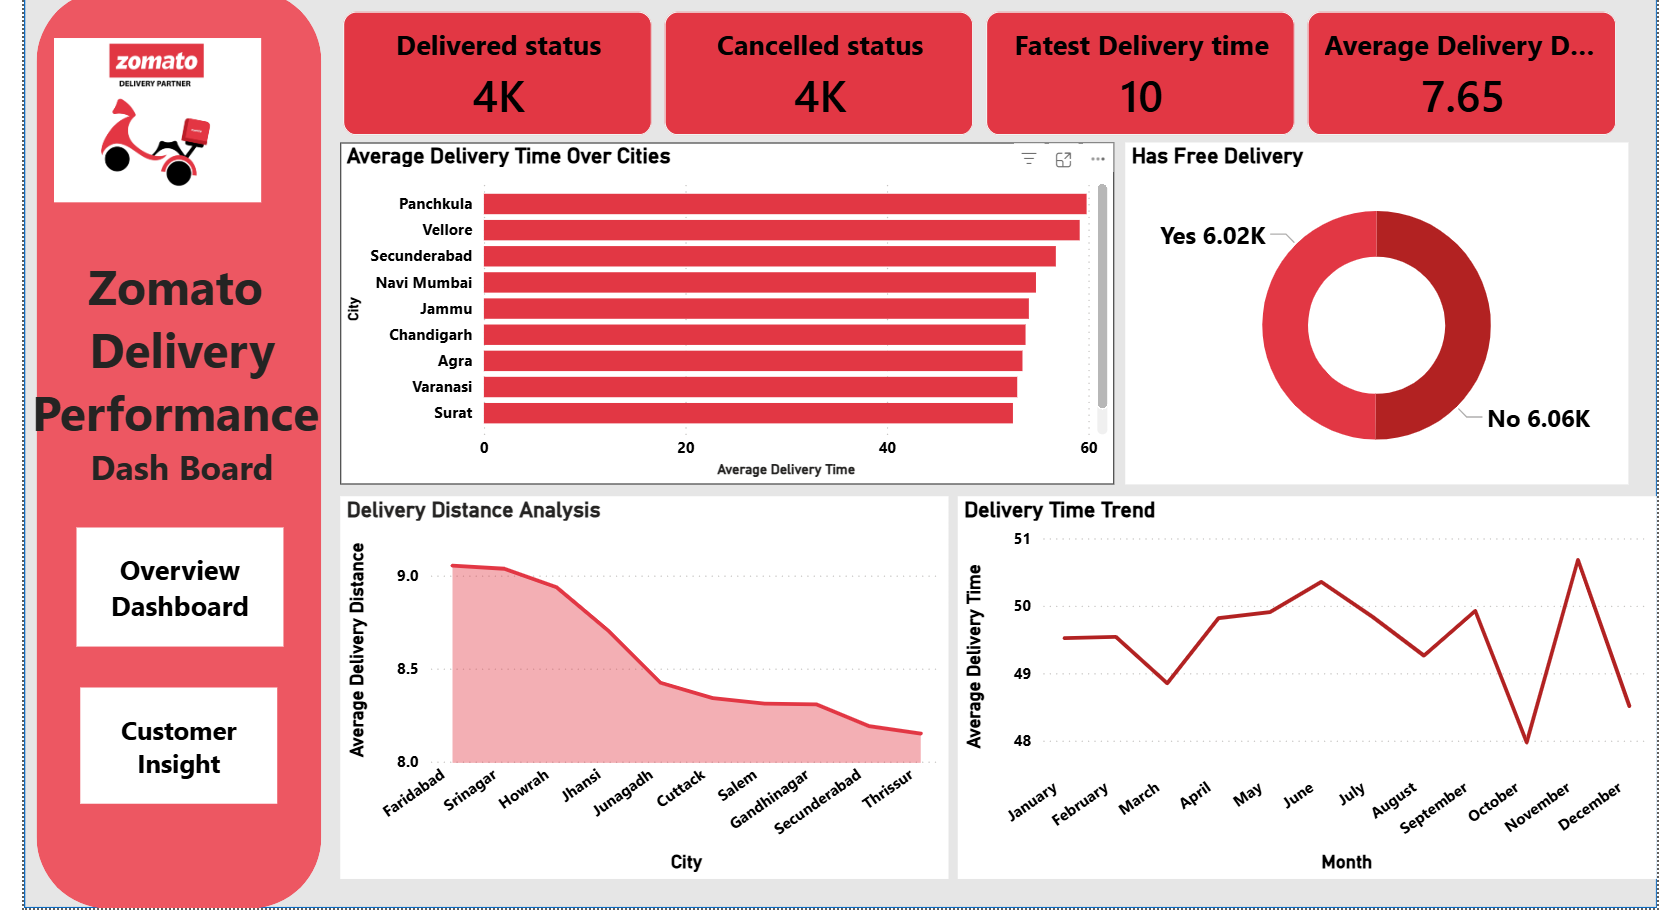

The dashboard page shown, as its layout file describes it:
{"tool":"powerbi","page":{"name":"delivery performance","canvas":[1280,720],"ordinal":2},"visuals":[{"type":"shape","box":[0,0,1280.2,719.8],"z":0},{"type":"shape","box":[10,0,223.3,720],"z":1000},{"type":"textbox","box":[0,202.2,247.8,253.3],"z":2000},{"type":"image","box":[23.3,17.8,162.2,168.9],"z":3000},{"type":"cardVisual","fields":{"Data":["Zomata_delivery_data.Delivered_status","Zomata_delivery_data.Cancelled_status","Region.Fatest Delivery time","Region.Average Delivery Distance"]},"box":[233.3,0,1035.6,131.1],"z":4000},{"type":"clusteredBarChart","title":"Average Delivery Time Over Cities","fields":{"Category":["Zomata_delivery_data.city"],"Y":["Avg(Zomata_delivery_data.Delivery Time (mins))"]},"box":[247.8,120,606.7,267.8],"z":5000},{"type":"donutChart","title":"Has Free Delivery","fields":{"Y":["CountNonNull(Zomata_delivery_data.Order ID)"],"Category":["Zomata_delivery_data.Has Free Delivery"]},"box":[863.3,120,394.4,267.8],"z":6000},{"type":"areaChart","title":"Delivery Distance Analysis","fields":{"Category":["Zomata_delivery_data.city"],"Y":["Avg(Zomata_delivery_data.Delivery Distance (km))"]},"box":[247.8,396.7,476.7,300],"z":7000},{"type":"lineChart","title":"Delivery Time Trend","fields":{"Category":["Zomata_delivery_data.Order Date.Variation.Date Hierarchy.Month"],"Y":["Avg(Zomata_delivery_data.Delivery Time (mins))"]},"box":[732.2,396.7,547.8,300],"z":8000},{"type":"actionButton","box":[41.1,421.1,162.2,93.3],"z":9000},{"type":"actionButton","title":"Customer Insight","box":[44.4,546.7,154.4,91.1],"z":10000}]}

Visuals, with their boxes in screenshot pixels (x1, y1, x2, y2), scaled from the page's 1280x720 canvas onto the 1675x917 screenshot:
shape: bbox(0, 0, 1674, 916)
shape: bbox(13, 0, 305, 916)
textbox: bbox(0, 258, 324, 580)
image: bbox(30, 23, 243, 238)
cardVisual - Zomata_delivery_data.Delivered_status x Zomata_delivery_data.Cancelled_status: bbox(305, 0, 1660, 167)
"Average Delivery Time Over Cities" clusteredBarChart: bbox(324, 153, 1118, 494)
"Has Free Delivery" donutChart: bbox(1130, 153, 1646, 494)
"Delivery Distance Analysis" areaChart: bbox(324, 505, 948, 887)
"Delivery Time Trend" lineChart: bbox(958, 505, 1674, 887)
actionButton: bbox(54, 536, 266, 655)
"Customer Insight" actionButton: bbox(58, 696, 260, 812)
